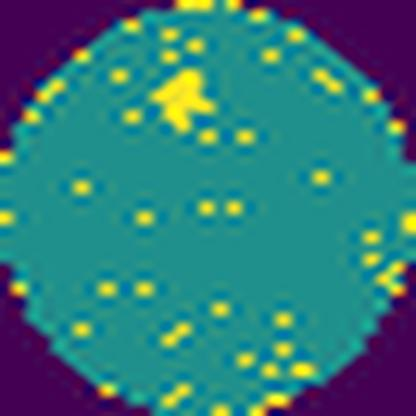Edge-Loc: (150, 67, 217, 133)
